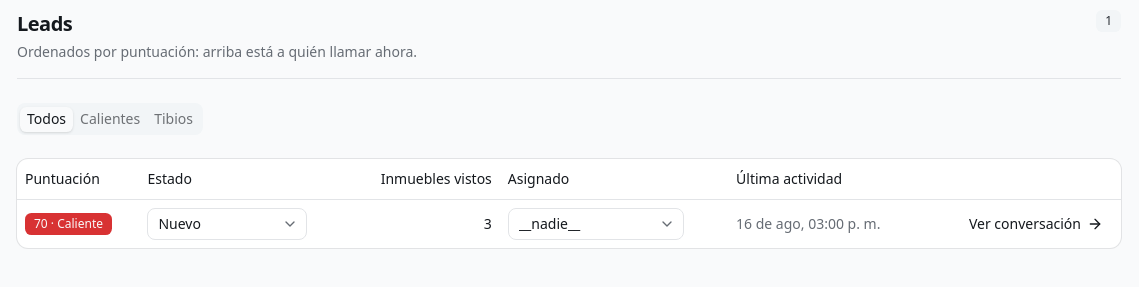
Test: Bandeja de leads › solo se puede asignar a gente activa del equipo
Click the dropdown named "Asignar lead". click: [596, 224]
box: 508,208 -> 684,240
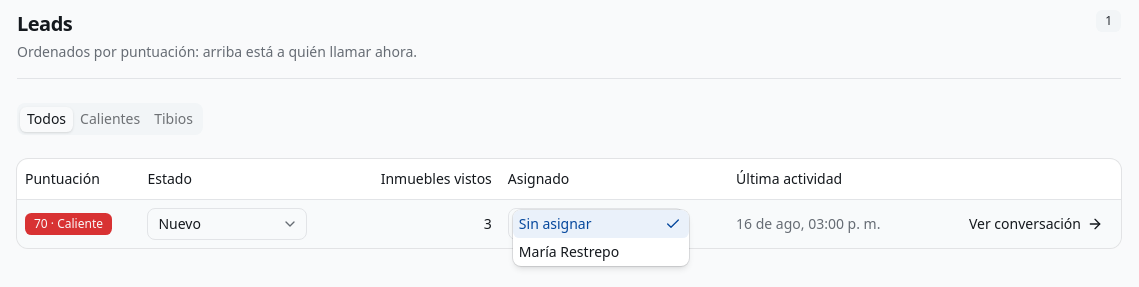
Now the option "María Restrepo" is shown, box 519,242 -> 619,260
Now the option "Sin asignar" is shown, box 513,210 -> 689,238
